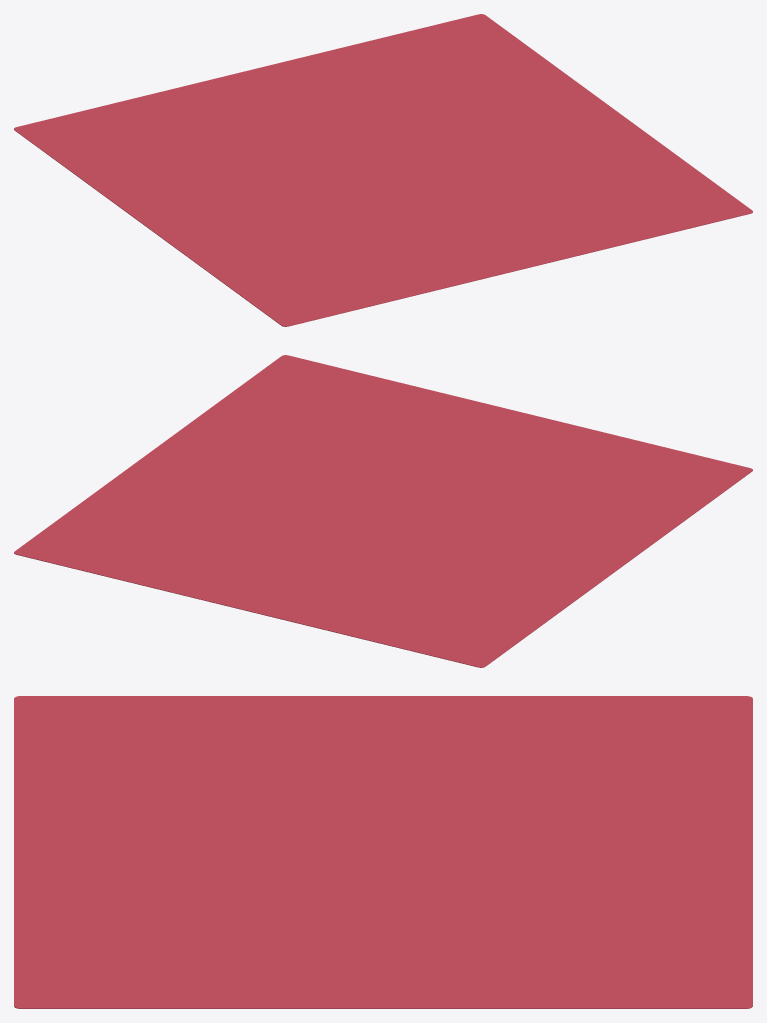
Rendered from PacMan_Floor.glb.
3 views of the same model, one above another, from view 1: azimuth 30°, elevation 25°; view 2: azimuth 150°, elevation 25°; view 3: azimuth 270°, elevation 25° (orthographic). The views are drawn at different scales.
Parts seen in each view (by area): view 1: Mesh_Mesh_head_geo.001_lambert2SG.001; view 2: Mesh_Mesh_head_geo.001_lambert2SG.001; view 3: Mesh_Mesh_head_geo.001_lambert2SG.001.
Boxes of the visible parts, <box> form: Mesh_Mesh_head_geo.001_lambert2SG.001: <box>14,14,752,326</box>; Mesh_Mesh_head_geo.001_lambert2SG.001: <box>14,355,752,667</box>; Mesh_Mesh_head_geo.001_lambert2SG.001: <box>14,696,752,1008</box>.
Bounding box in the file's own units: 102 × 0.1 × 102.
